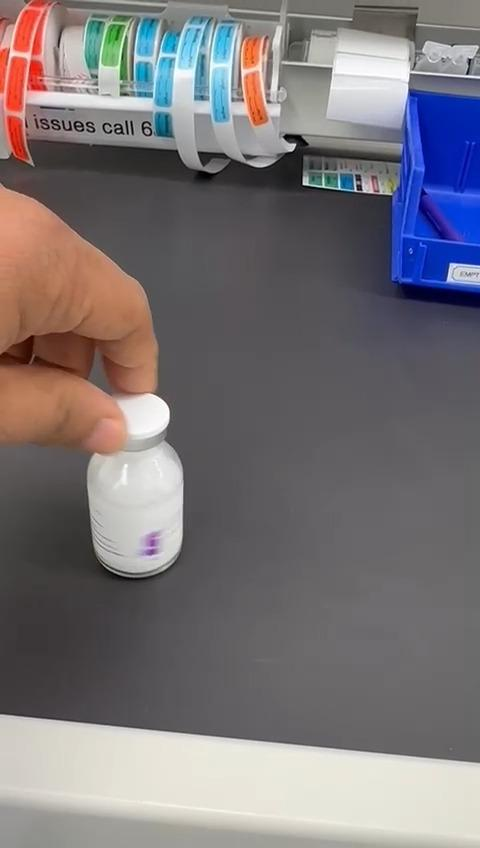augmentin: (89, 393, 184, 577)
